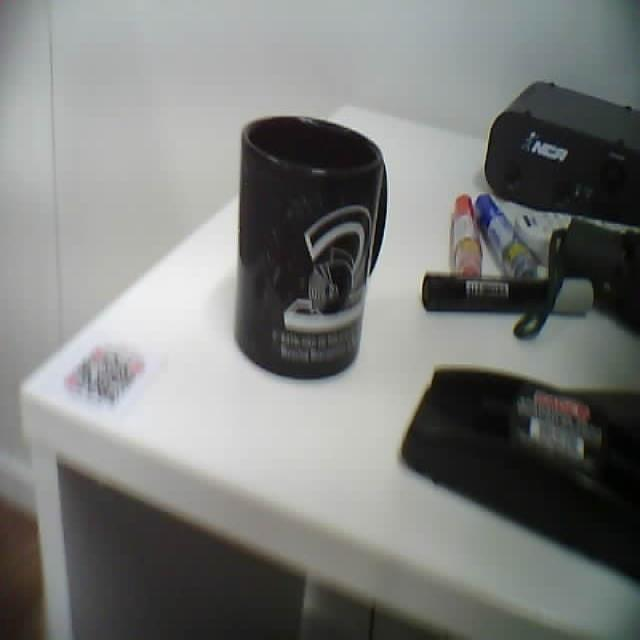caneca: (235, 119, 386, 377)
